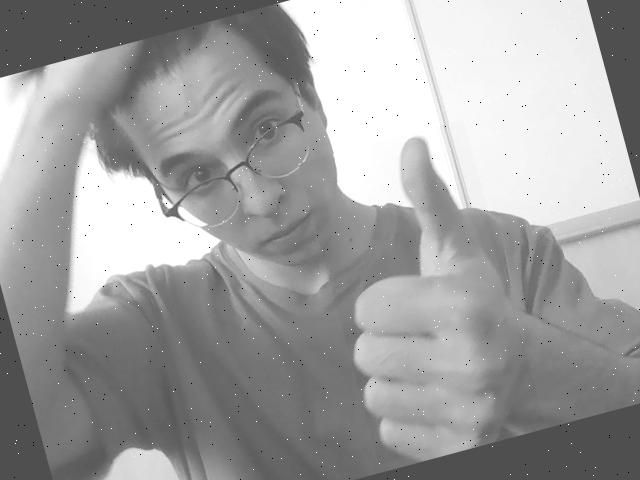good: (350, 133, 522, 452)
